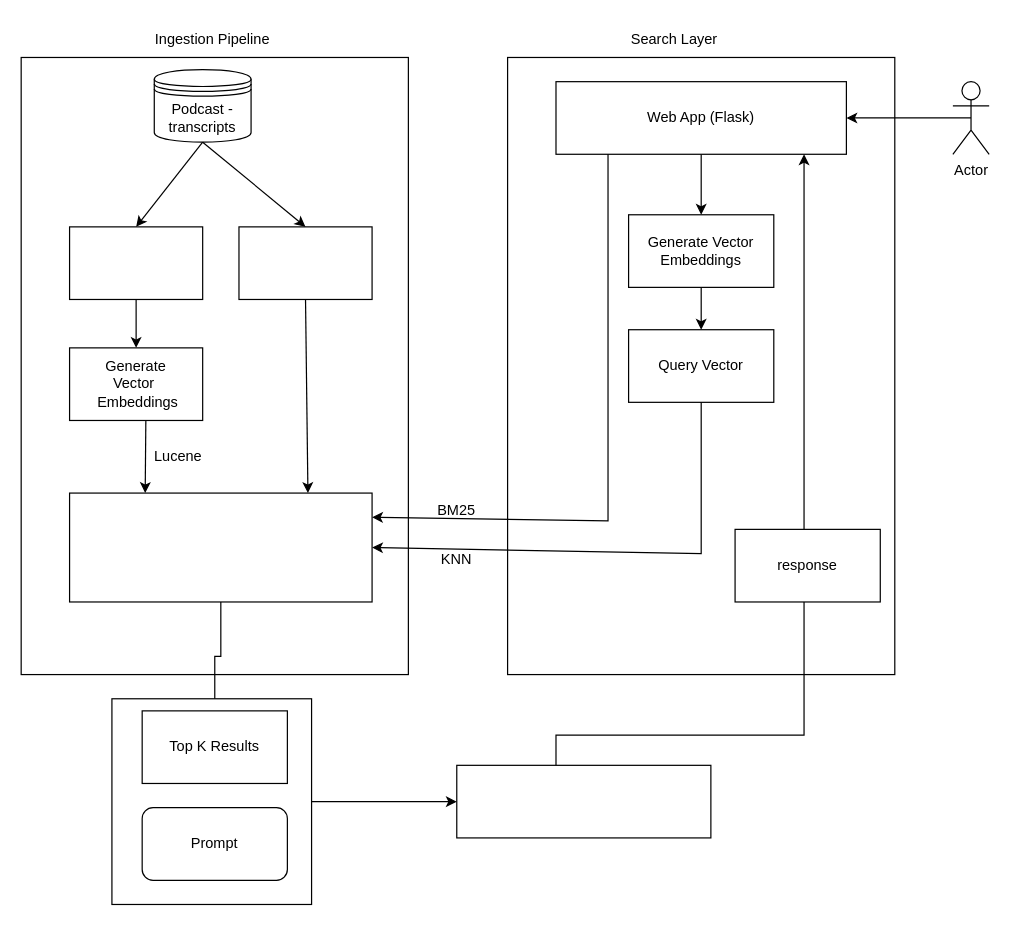
The diagram is 1010 pixels wide and 926 high, and some of its shapes have lost their labels. Each missing label, with the centre of its shape:
Chunking: (135,262)
Entity Extraction: (305,262)
LLM: (583,801)
Opensearch: (220,547)
